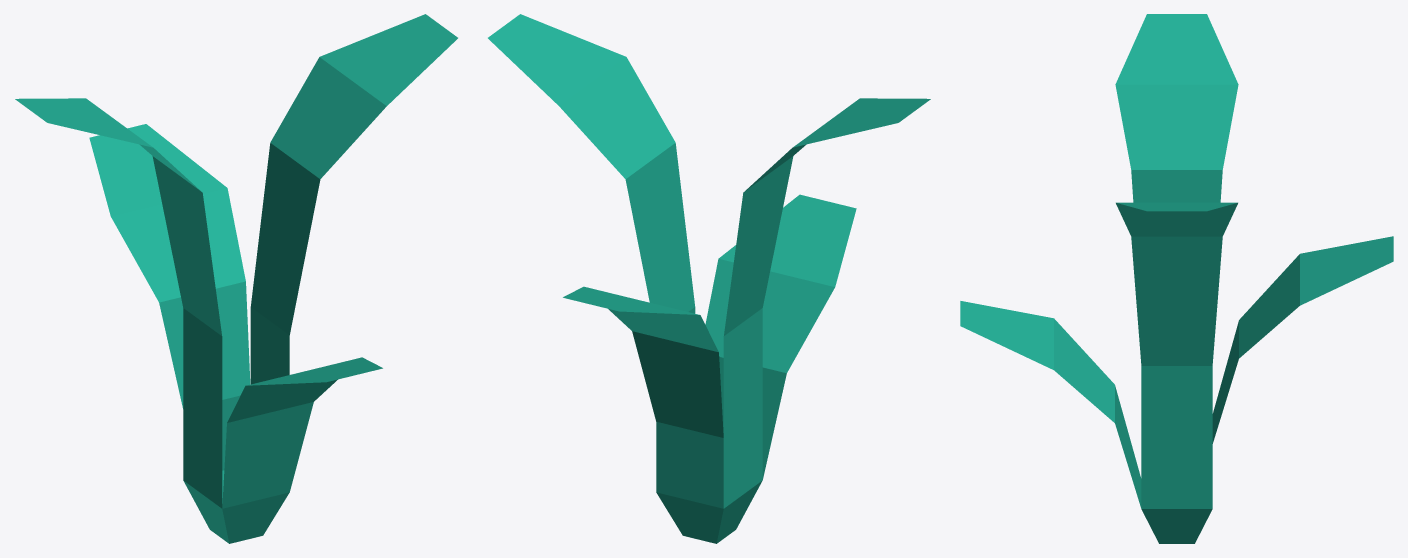
Rendered from crops_leafsStageA.glb.
3 renders of one model, left to right at view 1: azimuth 30°, elevation 25°; view 2: azimuth 150°, elevation 25°; view 3: azimuth 270°, elevation 25°, orthographic. The views are drawn at different scales.
Parts seen in each view (by area): view 1: crops_leafsStageA; view 2: crops_leafsStageA; view 3: crops_leafsStageA.
Part boxes in pixels (x1,y1,x2,y2): crops_leafsStageA: (15,14,457,543); crops_leafsStageA: (488,14,930,543); crops_leafsStageA: (960,14,1393,543).
Bounding box in the file's own units: 0.4523 × 0.4961 × 0.4523.
